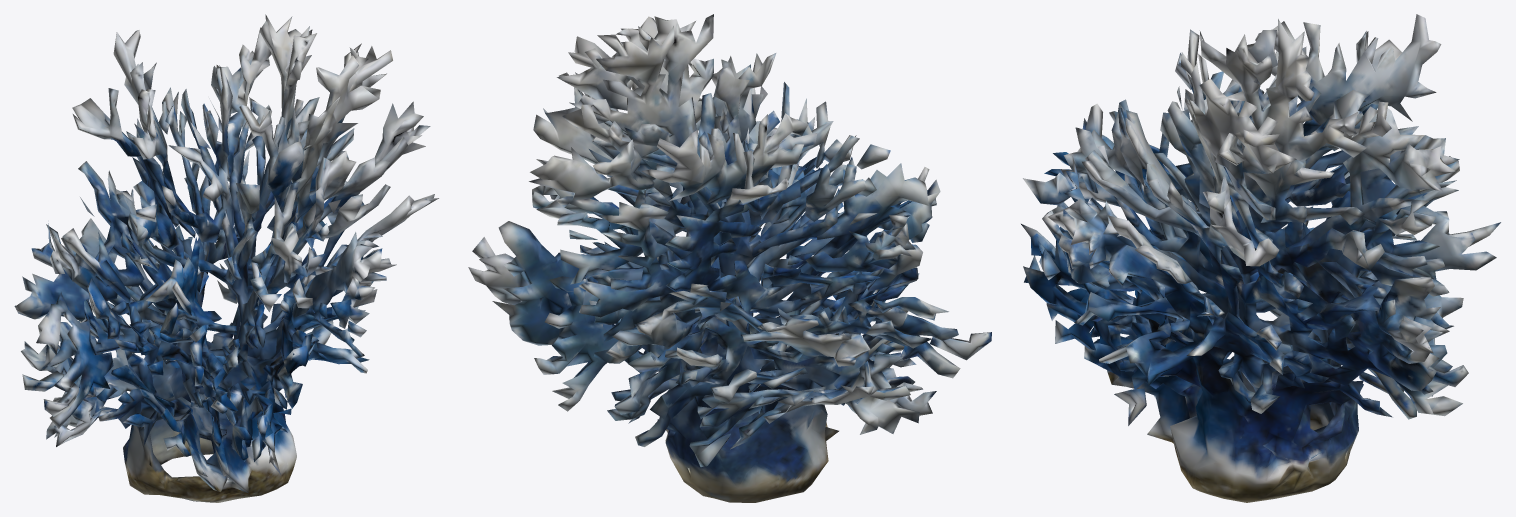
The model's file is Blue_White_Coral_0903040154_texture.fbx.
3 views of the same model, side by side, from view 1: azimuth 30°, elevation 25°; view 2: azimuth 150°, elevation 25°; view 3: azimuth 270°, elevation 25° (orthographic). The views are drawn at different scales.
Parts seen in each view (by area): view 1: Mesh1.0; view 2: Mesh1.0; view 3: Mesh1.0.
Part boxes in pixels (x1,y1,x2,y2): Mesh1.0: (14, 14, 438, 502); Mesh1.0: (468, 14, 991, 502); Mesh1.0: (1021, 14, 1500, 502).
Bounding box in the file's own units: 198 × 200 × 177.
1 material, 1 textured.
